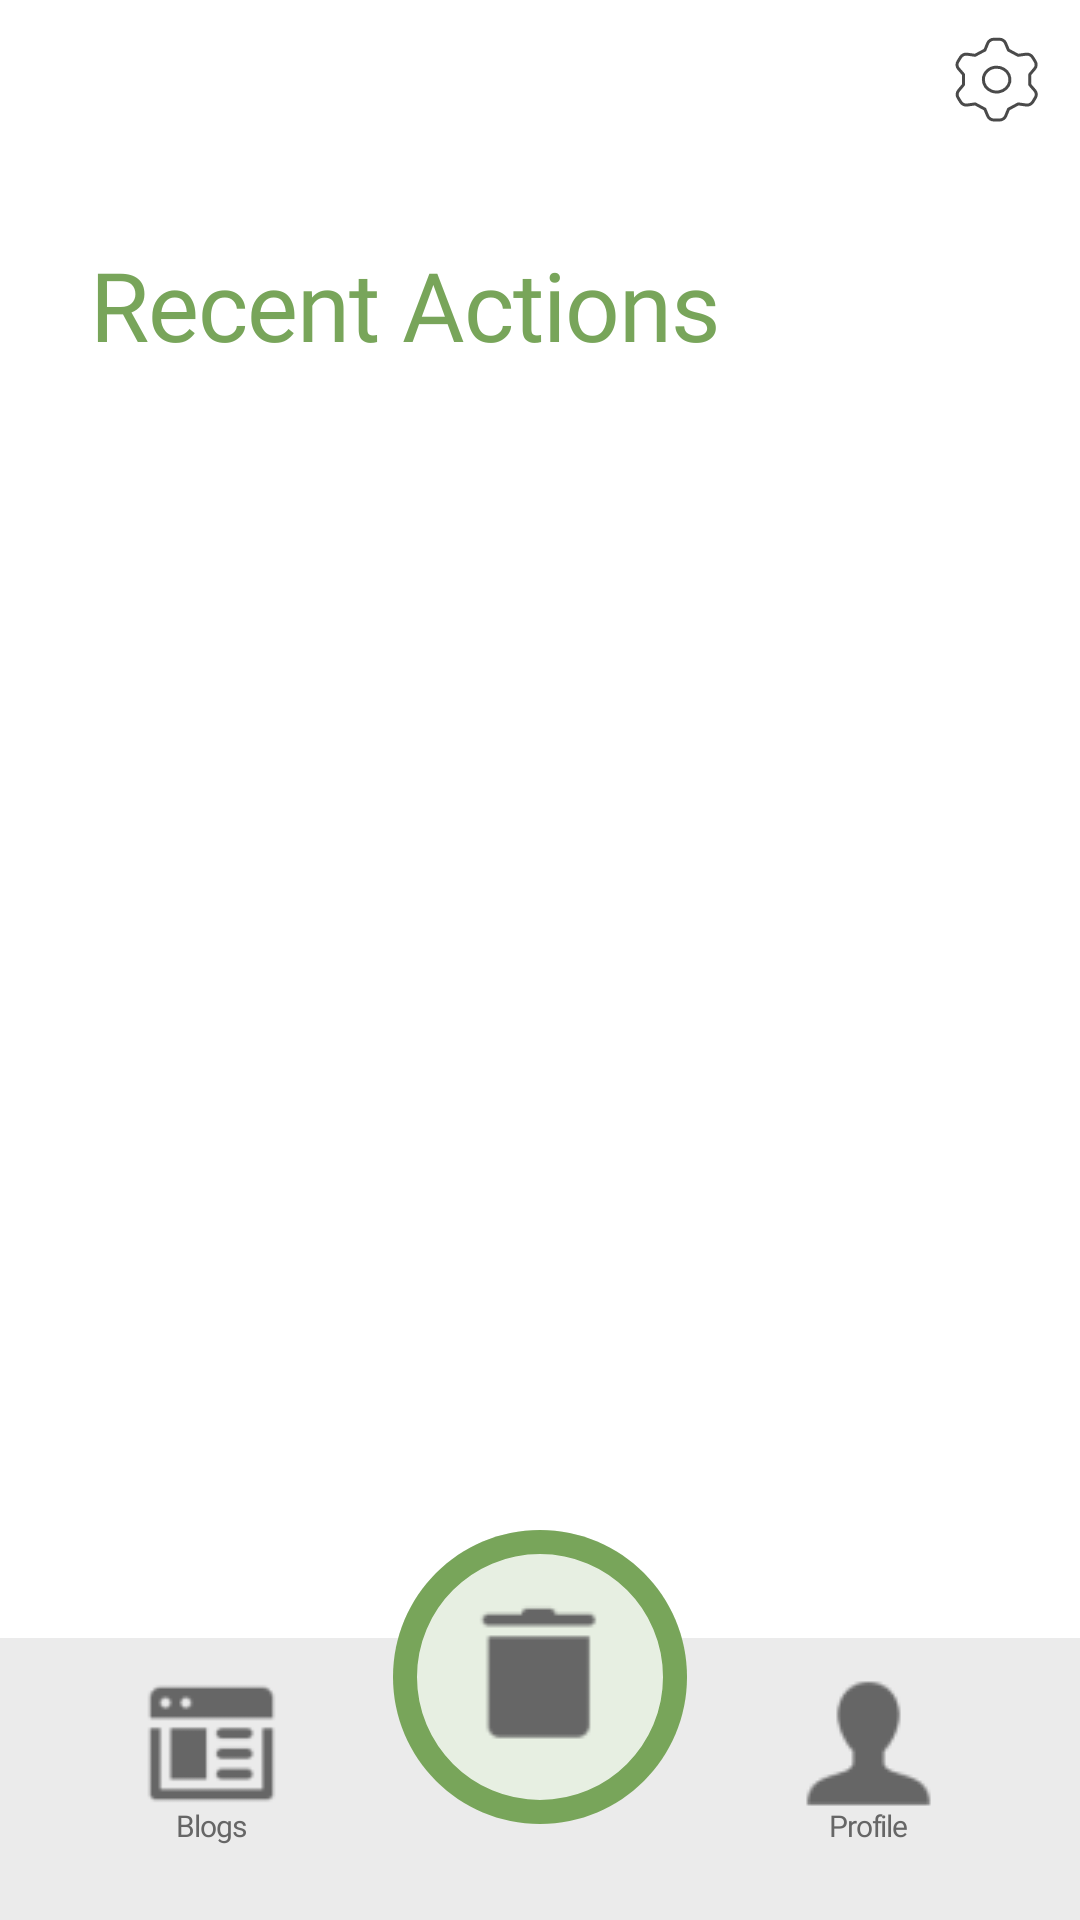

Icons on this 1080x1920 Android screen, each with its box as (x1, y1, x2, y2):
customer: (806, 1681, 931, 1806)
trashcan: (481, 1608, 596, 1739)
web: (149, 1686, 274, 1801)
